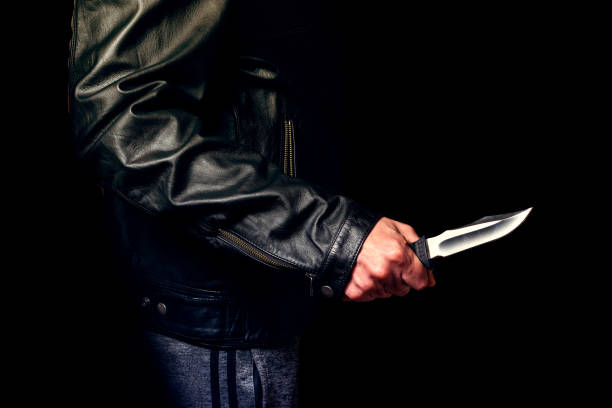knife: (412, 208, 533, 263)
